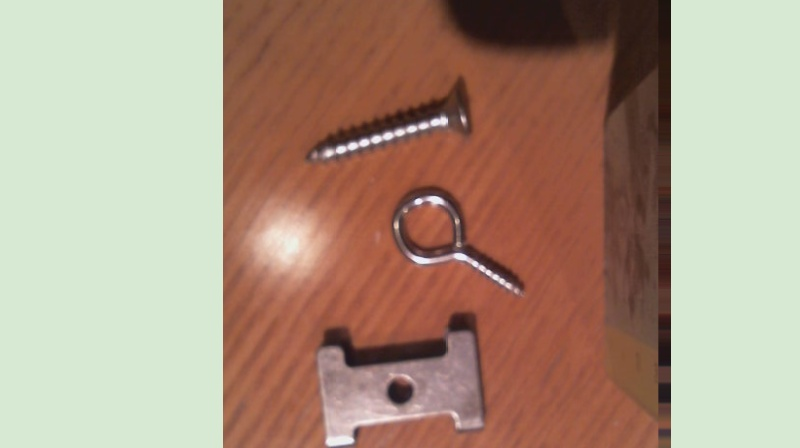O001: (387, 182, 531, 302)
O002: (314, 323, 490, 447)
S001: (303, 82, 477, 170)
